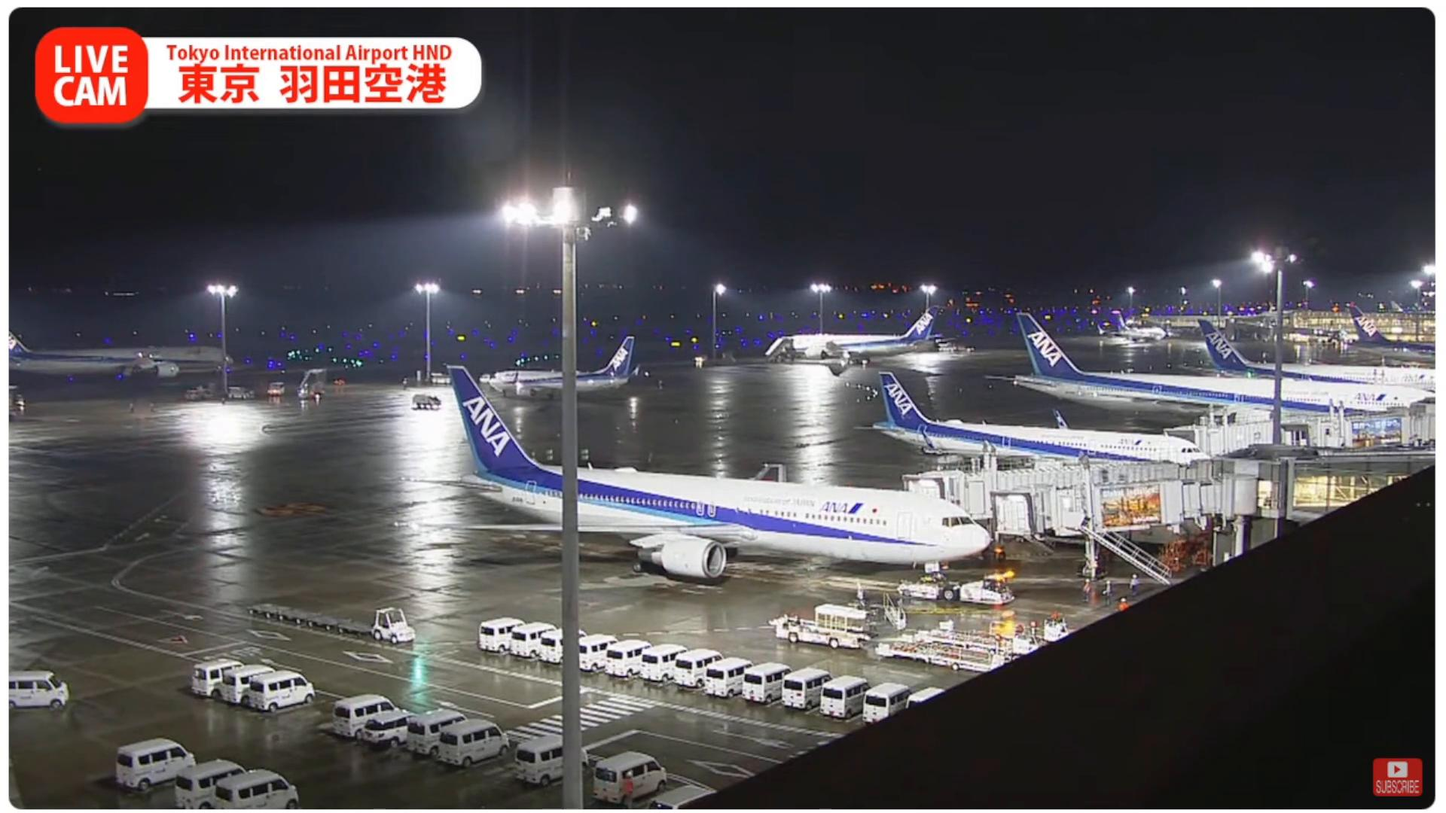APS: (896, 572, 1024, 609)
Aerobridge: (992, 475, 1249, 541), (902, 461, 1219, 494)
Airplane: (388, 358, 994, 588)
Dolly: (245, 595, 373, 641)
JCPL: (863, 638, 1018, 673), (895, 625, 1050, 656), (993, 615, 1080, 640)
Skyloader: (758, 598, 872, 653)
Tractor: (369, 607, 423, 645)
Window: (1293, 468, 1419, 517)
